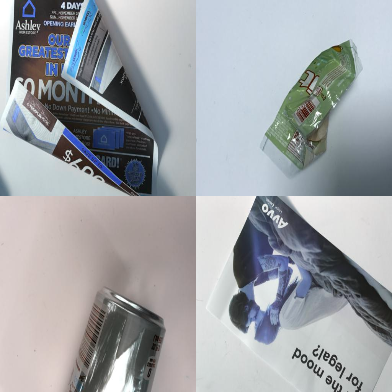metal: (64, 287, 166, 392)
paper: (204, 195, 391, 392), (1, 1, 160, 194)
trash: (261, 40, 363, 178)
